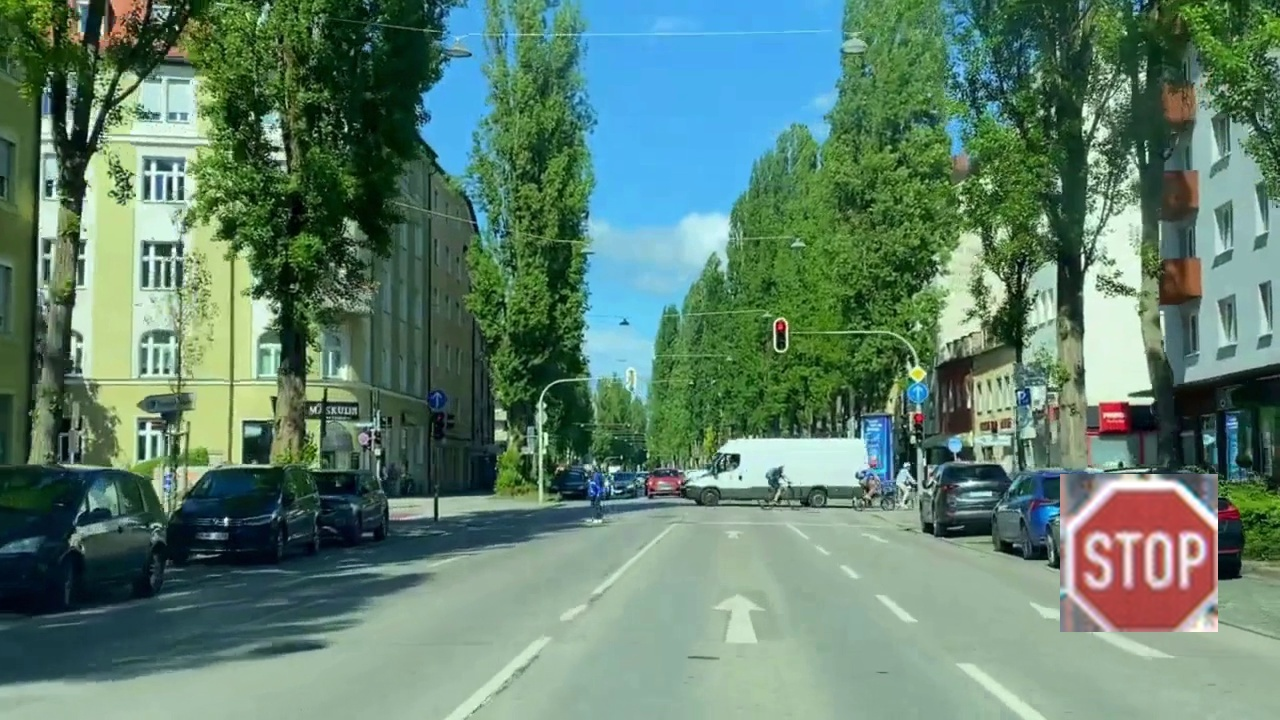Stop: (1060, 474, 1218, 632)
